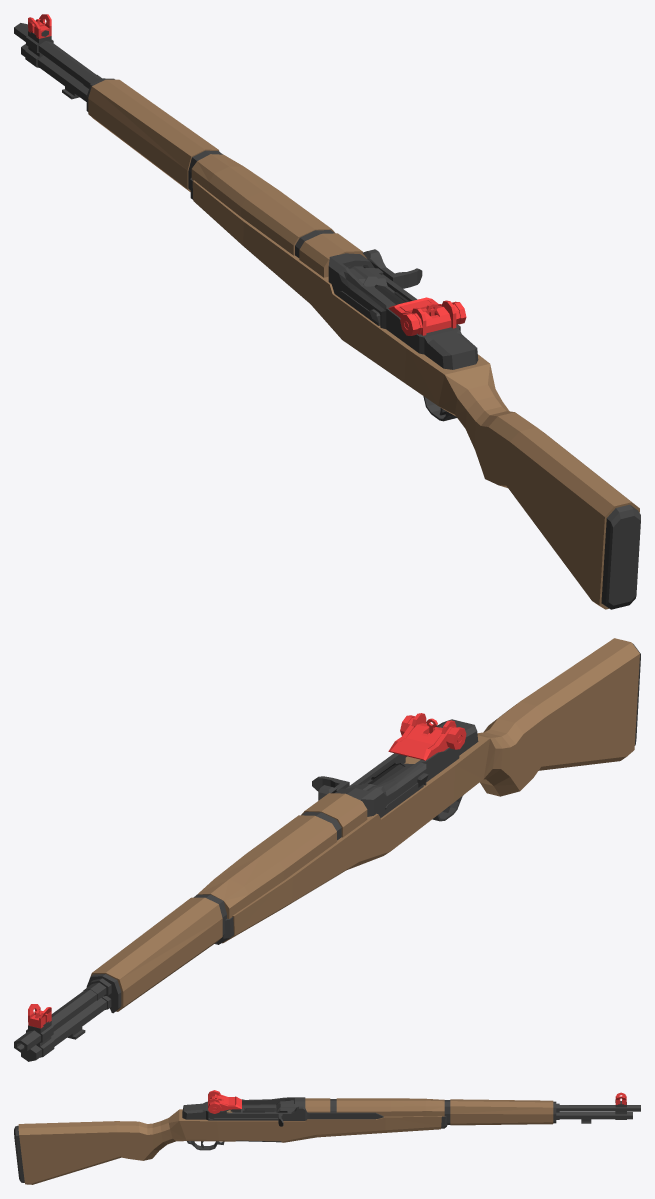
File: fusil_7.glb
3 renders of one model, top to bottom at view 1: azimuth 30°, elevation 25°; view 2: azimuth 150°, elevation 25°; view 3: azimuth 270°, elevation 25°, orthographic. The views are drawn at different scales.
Visible parts, largest first — view 1: p14_accent, p10_accent, p13_accent, p18_paint, p38_paint, p17_accent, p0_paint, p1_paint; view 2: p14_accent, p10_accent, p13_accent, p18_paint, p0_paint, p17_accent, p1_paint, p27_del, p29_del; view 3: p14_accent, p10_accent, p13_accent, p18_paint, p15_paint, p0_paint, p1_paint, p17_accent, p38_paint, p21_paint, p27_del.
Part boxes in pixels (x1,y1,x2,y2): p14_accent: [192, 180, 639, 609]; p10_accent: [88, 79, 219, 191]; p13_accent: [191, 154, 335, 255]; p18_paint: [328, 253, 478, 369]; p38_paint: [601, 504, 640, 609]; p17_accent: [299, 233, 366, 277]; p0_paint: [14, 23, 363, 267]; p1_paint: [21, 44, 88, 101]; p14_accent: [222, 638, 639, 943]; p10_accent: [90, 897, 222, 1011]; p13_accent: [197, 815, 336, 918]; p18_paint: [335, 719, 478, 817]; p0_paint: [14, 978, 111, 1052]; p17_accent: [301, 793, 367, 837]; p1_paint: [21, 996, 111, 1061]; p27_del: [388, 721, 455, 760]; p29_del: [401, 723, 442, 748]; p14_accent: [18, 1109, 441, 1184]; p10_accent: [450, 1099, 553, 1125]; p13_accent: [336, 1098, 444, 1116]; p18_paint: [182, 1097, 305, 1120]; p15_paint: [278, 1106, 383, 1126]; p0_paint: [556, 1103, 640, 1112]; p1_paint: [556, 1112, 632, 1119]; p17_accent: [305, 1098, 330, 1112]; p38_paint: [14, 1125, 24, 1182]; p21_paint: [241, 1100, 293, 1112]; p27_del: [208, 1094, 241, 1110].
Bounding box in the file's own units: 0.0857 × 0.1695 × 1.1.
